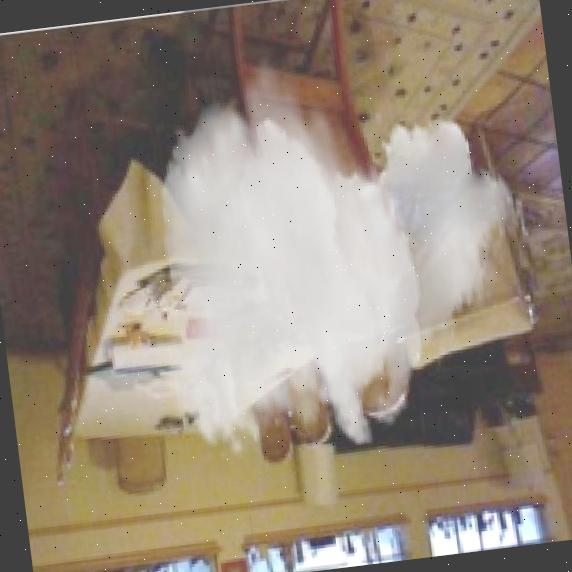smoke: (130, 22, 552, 470)
